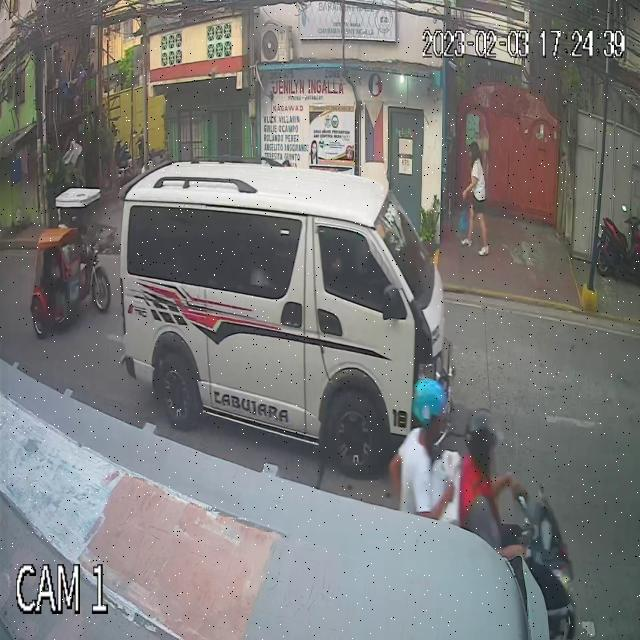human: (460, 141, 490, 257)
trash: (457, 197, 470, 237)
